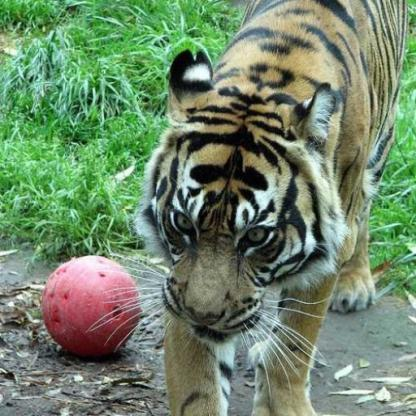Tiger: (136, 0, 386, 415)
